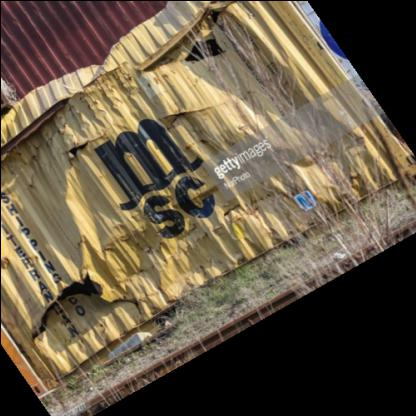Damage: (84, 6, 348, 170), (17, 230, 174, 354), (2, 86, 86, 178)
